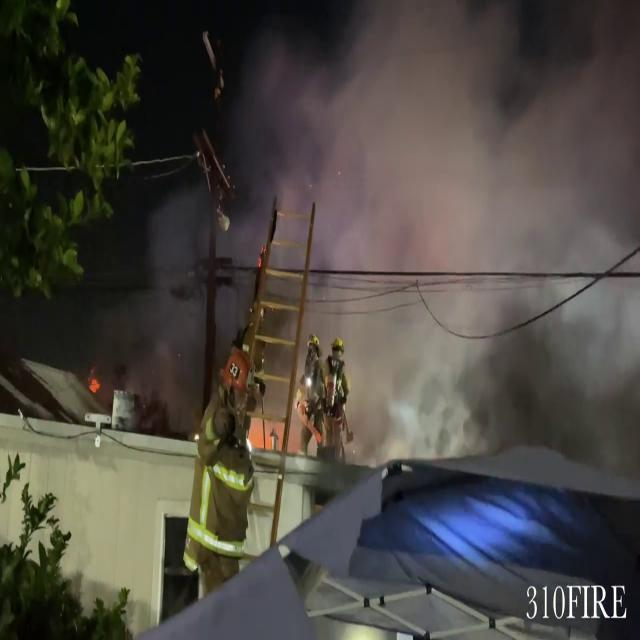Smoke: (249, 0, 640, 471)
